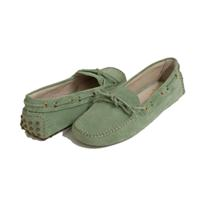shoe: (72, 58, 184, 146), (20, 68, 126, 140)
